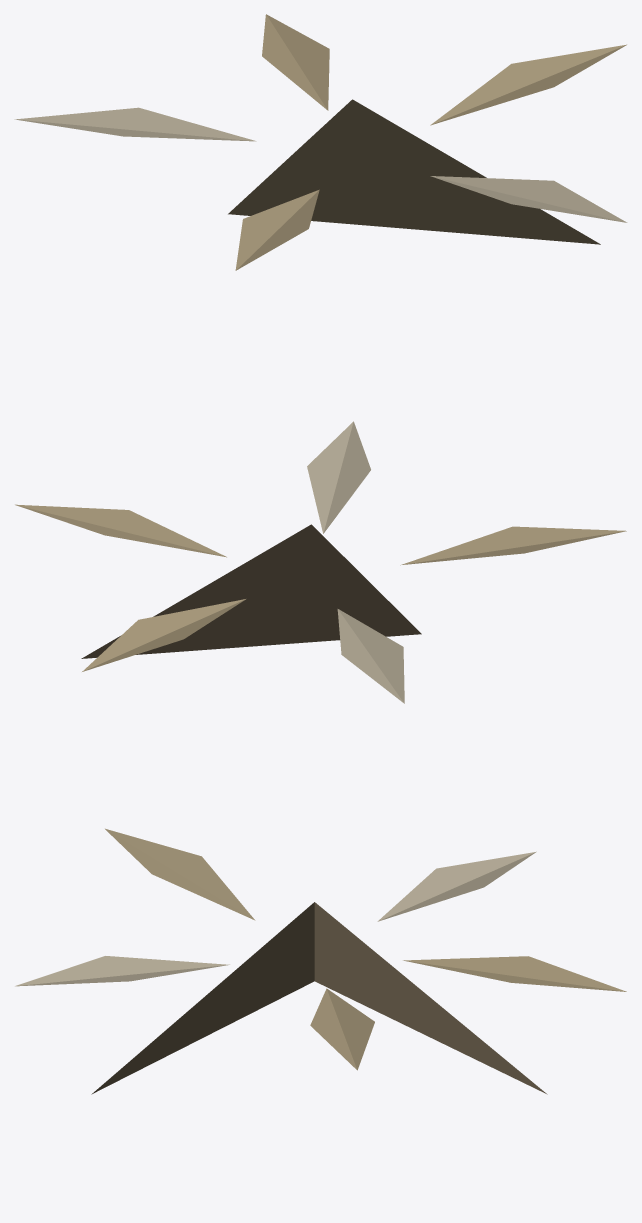
The model's file is hua.lan@withered__spring.glb.
3 views of the same model, one above another, from view 1: azimuth 30°, elevation 25°; view 2: azimuth 150°, elevation 25°; view 3: azimuth 270°, elevation 25° (orthographic). The views are drawn at different scales.
Parts seen in each view (by area): view 1: hua.lan@withered__spring; view 2: hua.lan@withered__spring; view 3: hua.lan@withered__spring.
Boxes of the visible parts, x1,y1,x2,y2 form: hua.lan@withered__spring: (14, 14, 627, 270); hua.lan@withered__spring: (15, 421, 626, 703); hua.lan@withered__spring: (15, 828, 626, 1094).
Size of the model in its own units: 0.2049 by 0.0738 by 0.2128.
